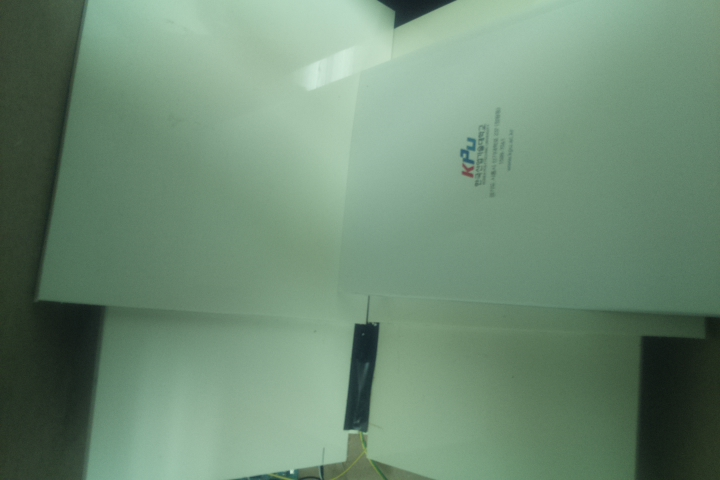book: (335, 1, 720, 322)
